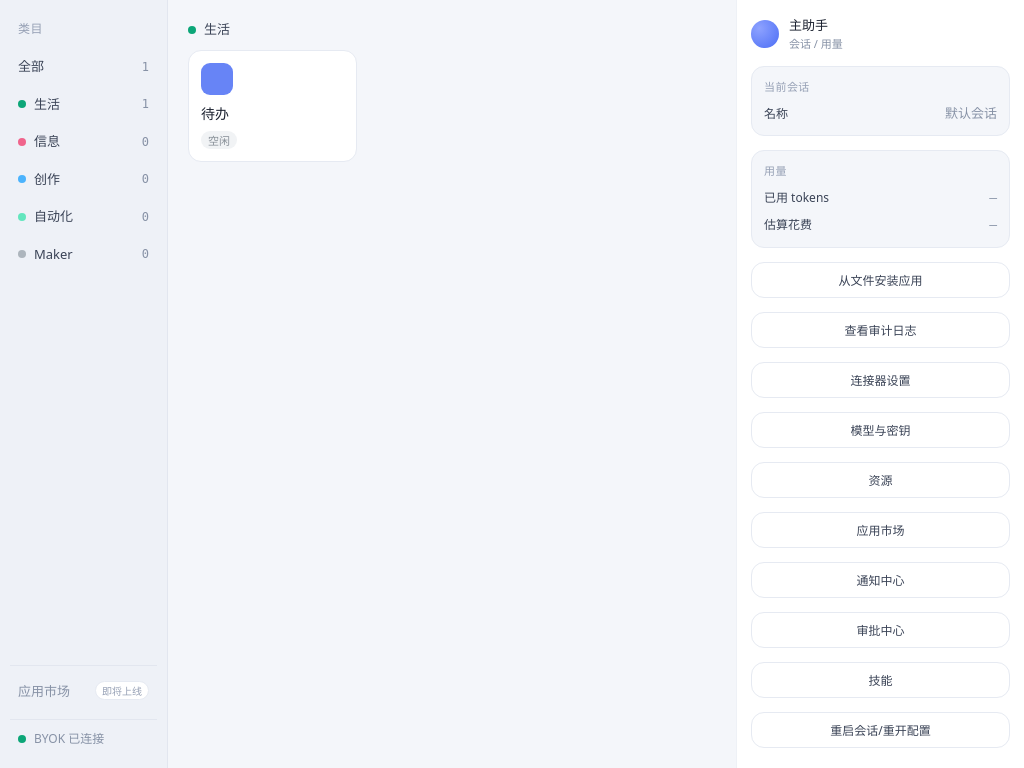
Scenario: 点击「模型与密钥」入口切到模型设置页
The width and height of the screenshot is (1024, 768).
expect the text "待办" is shown: met, box top-left (201, 102), bottom-right (229, 122)
Click the button "模型与密钥" at (880, 430), box top-left (751, 412), bottom-right (1010, 448)
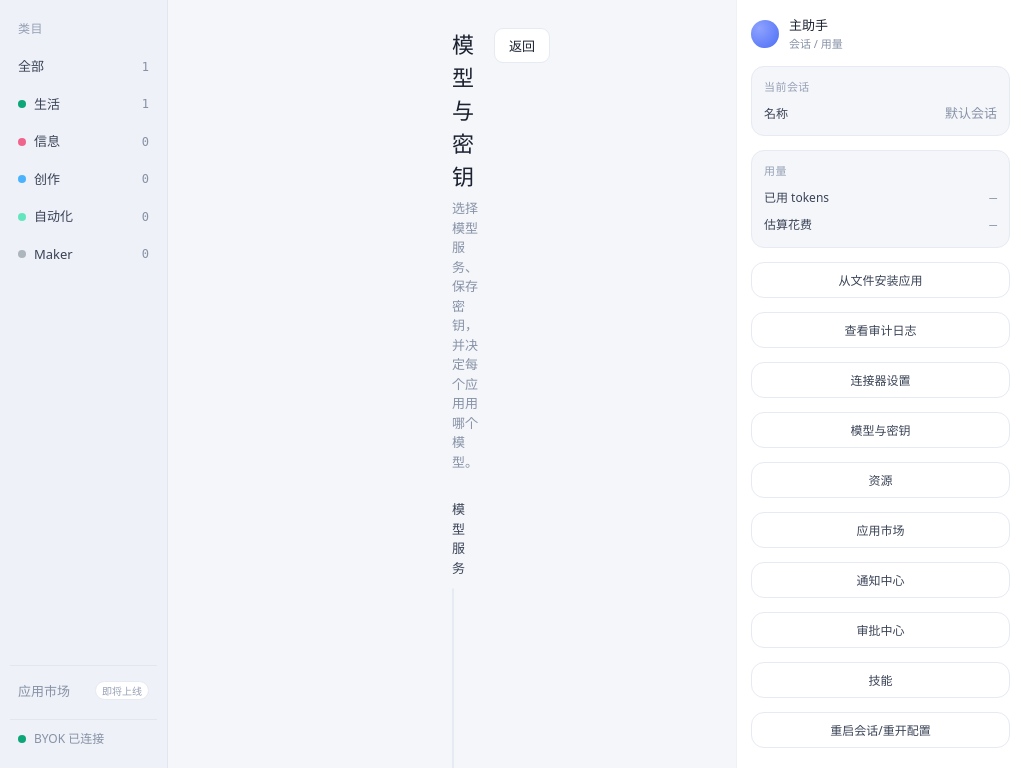
expect the heading "模型与密钥" is shown: met, box top-left (452, 28), bottom-right (478, 193)
